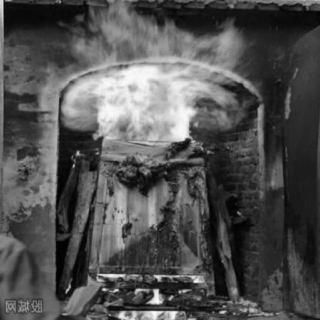Fire: (47, 3, 284, 160)
